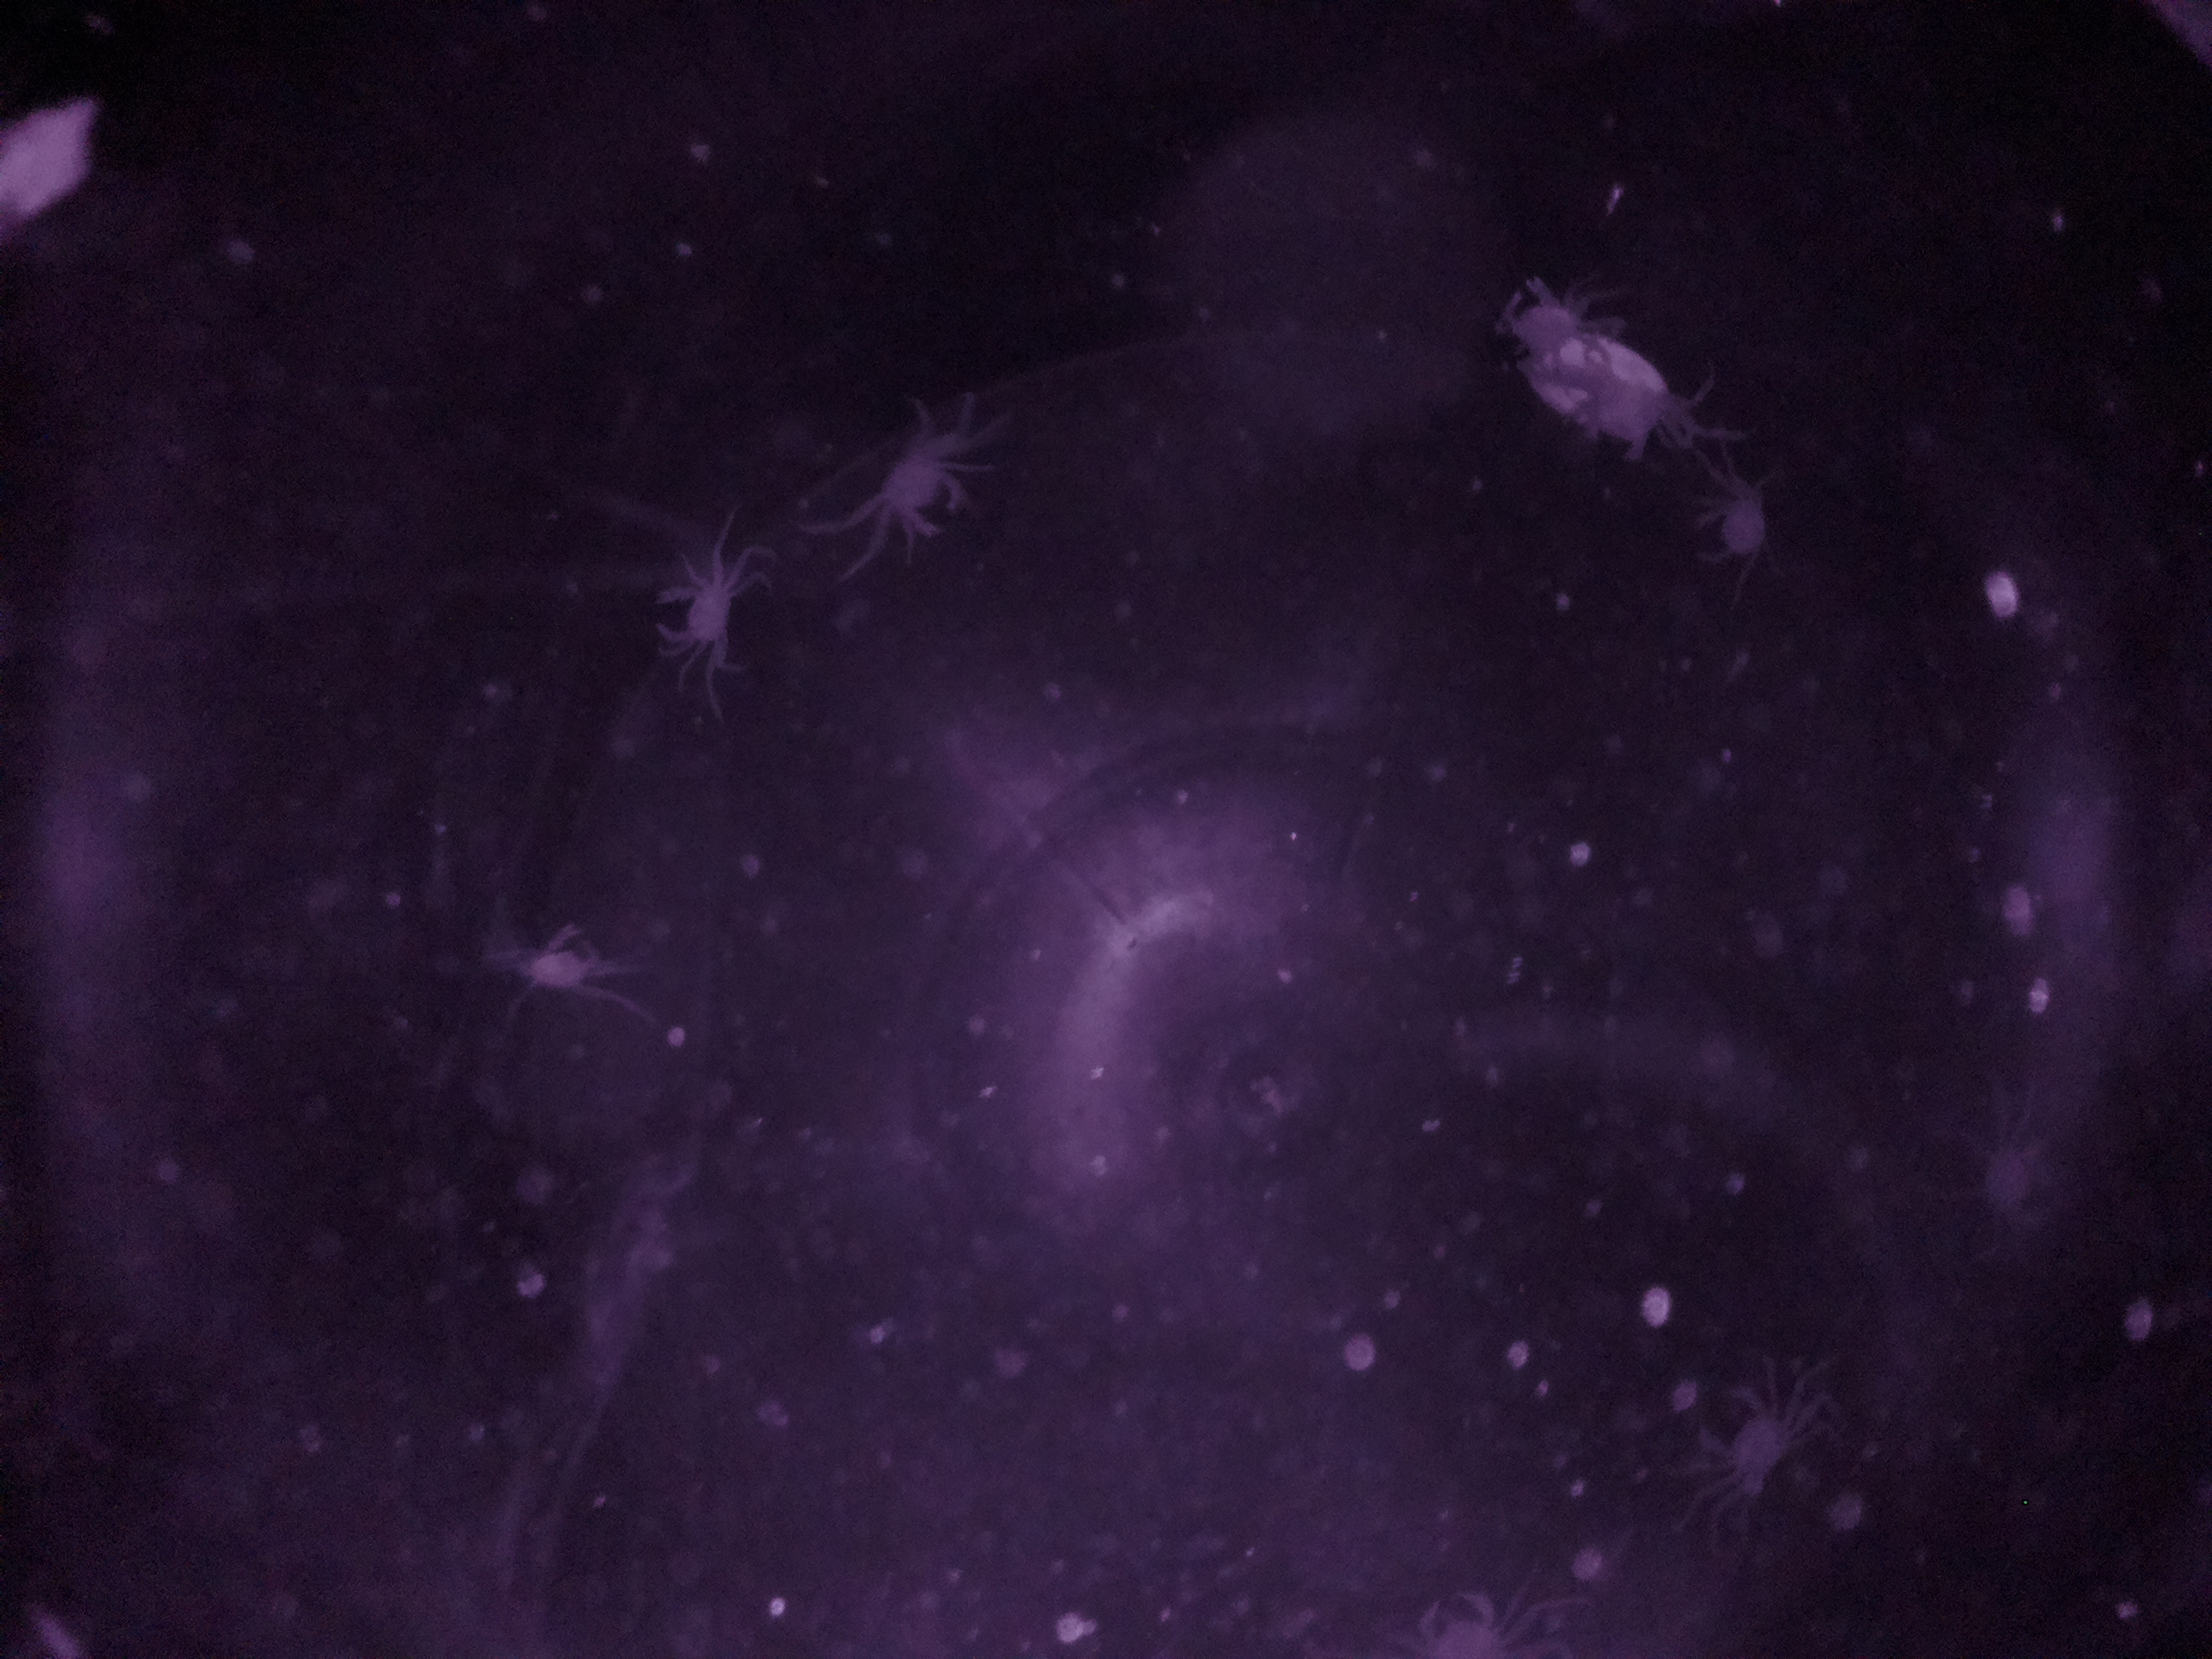Crab: (1677, 1359, 1808, 1511), (855, 427, 982, 554), (1557, 350, 1670, 476), (1683, 471, 1797, 582), (639, 563, 752, 664)
